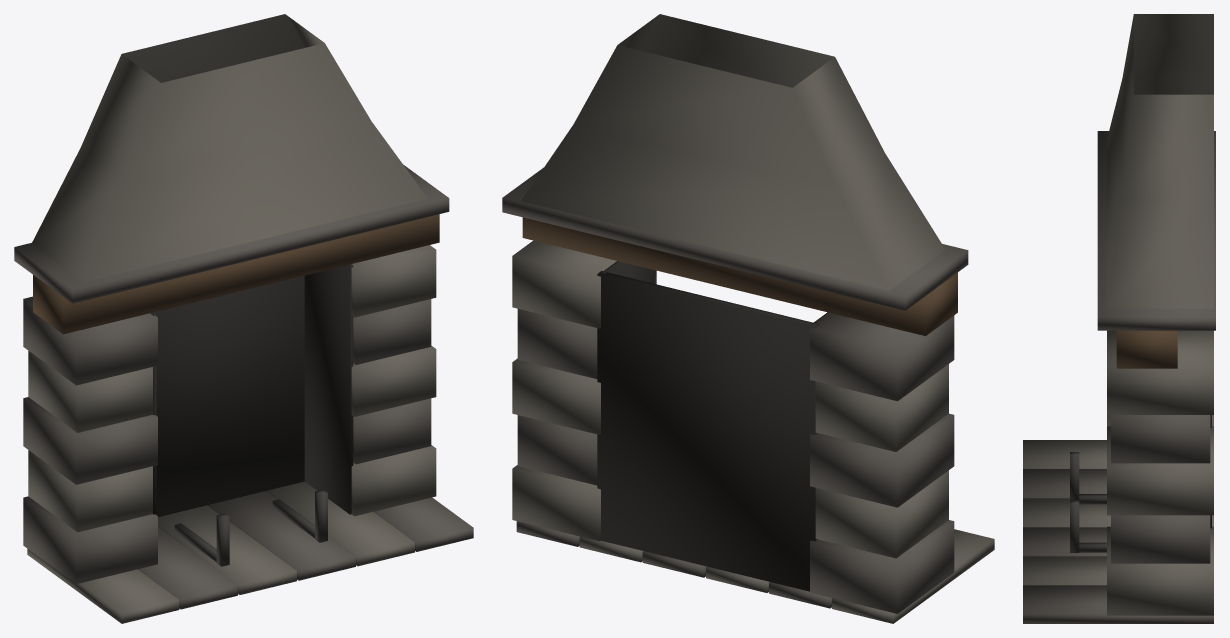
Rendered from mueble-chimenea.glb.
3 views of the same model, side by side, from view 1: azimuth 30°, elevation 25°; view 2: azimuth 150°, elevation 25°; view 3: azimuth 270°, elevation 25° (orthographic). The views are drawn at different scales.
Parts seen in each view (by area): view 1: Mueble_chimenea; view 2: Mueble_chimenea; view 3: Mueble_chimenea.
Part boxes in pixels (x1,y1,x2,y2): Mueble_chimenea: (14,14,473,623); Mueble_chimenea: (502,14,994,623); Mueble_chimenea: (1023,14,1215,623).
Bounding box in the file's own units: 2.3 × 2.79 × 1.01.
